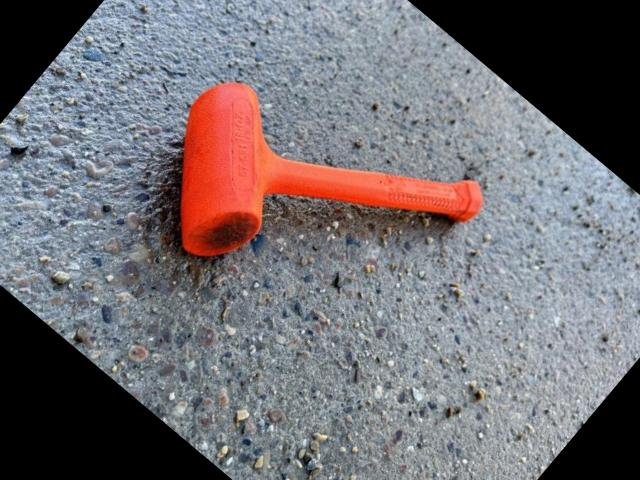hammer: (116, 9, 494, 381)
